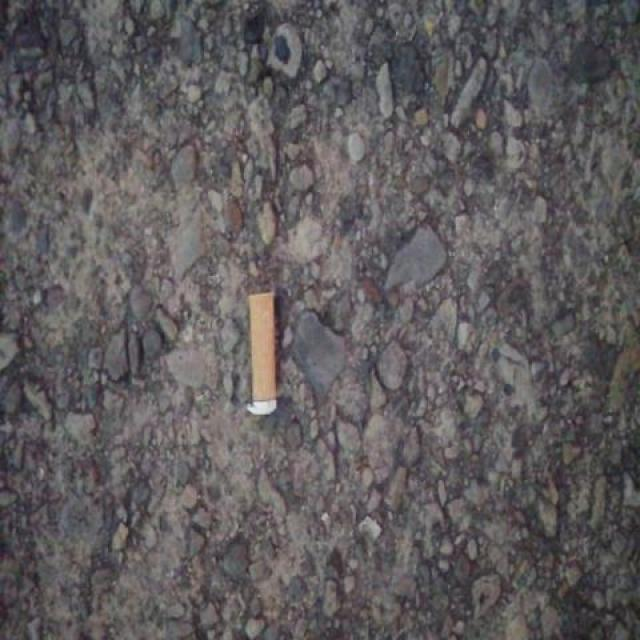non-organic waste: (240, 284, 281, 419)
